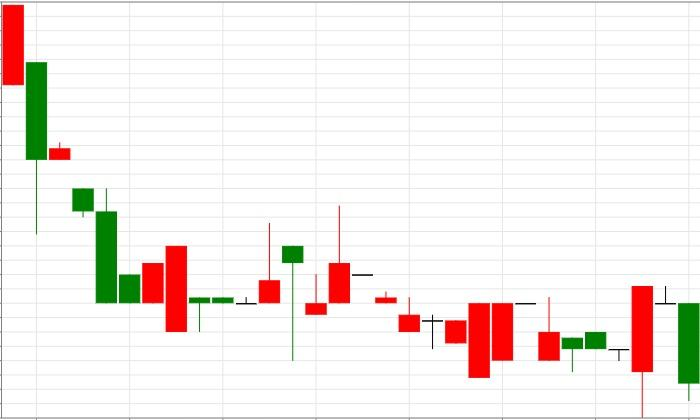hanging_man_fall: (166, 222, 303, 362)
